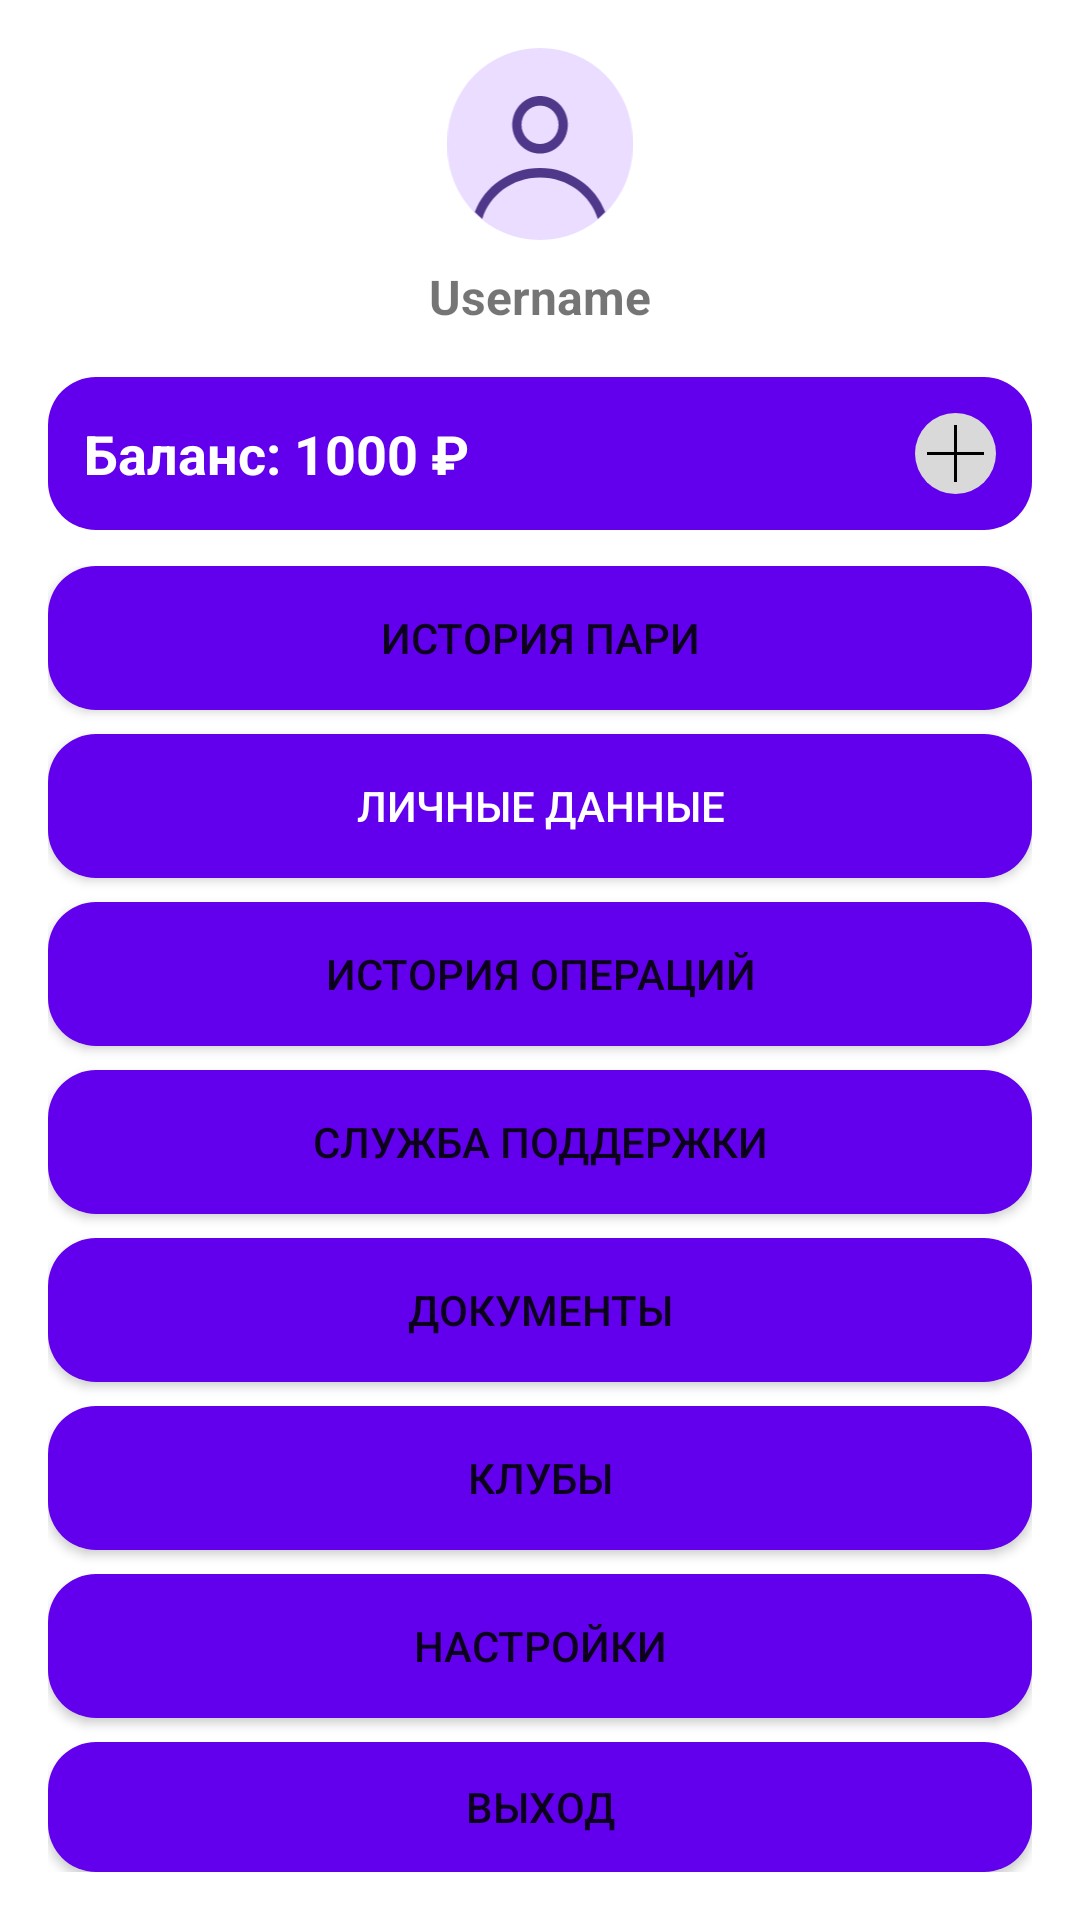

Where to tap for icons on this 1080w x 1920h app screen, as (x,y):
Пополнить баланс: (955,453)
